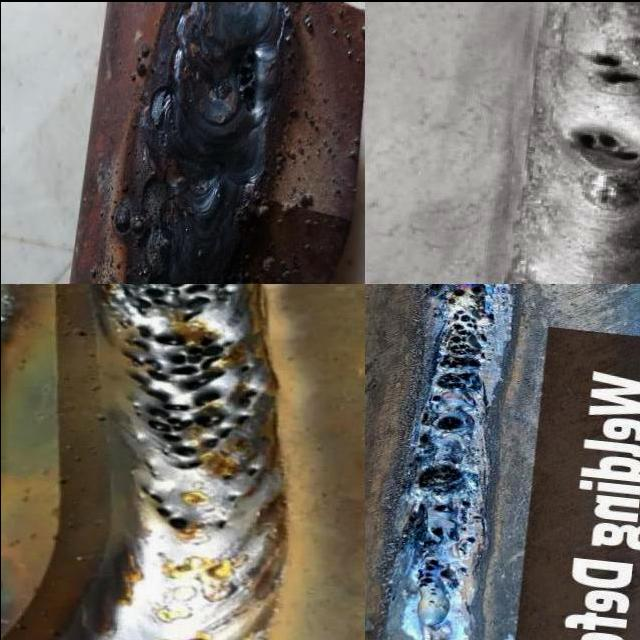defect: (91, 282, 266, 471), (424, 282, 496, 390), (557, 122, 640, 176), (568, 44, 640, 93), (413, 553, 469, 610), (132, 480, 194, 531), (413, 459, 466, 493), (236, 40, 258, 116), (397, 498, 428, 530), (418, 408, 461, 431), (418, 525, 445, 548), (206, 515, 232, 530), (431, 502, 455, 511), (243, 465, 259, 477), (223, 492, 241, 502), (415, 432, 430, 442), (218, 471, 233, 480), (455, 544, 468, 554), (429, 392, 441, 402), (470, 512, 484, 520), (456, 523, 469, 531), (459, 499, 471, 507), (463, 535, 475, 543), (411, 454, 422, 460)
